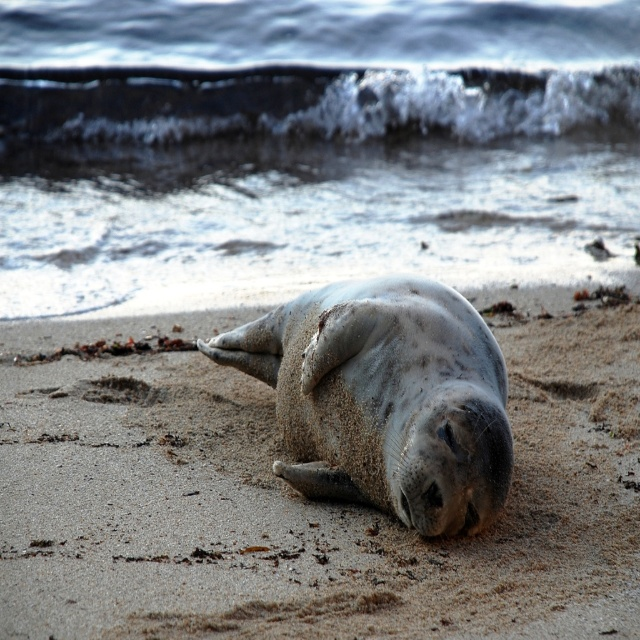Sea lion: (195, 272, 516, 542)
